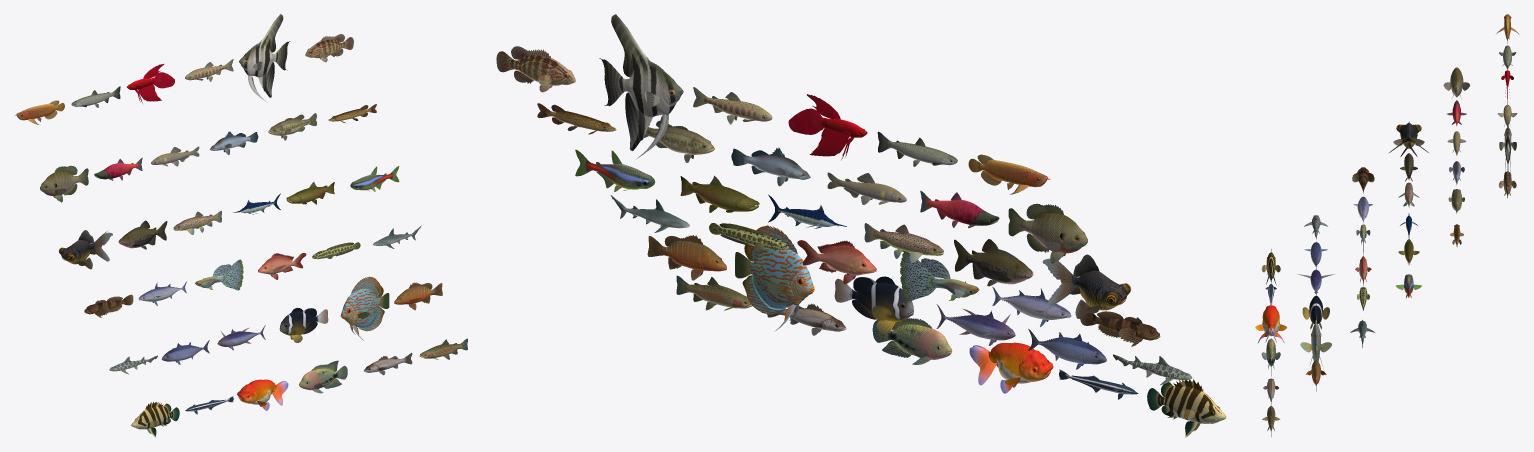
The model's file is fish.fbx.
3 renders of one model, left to right at view 1: azimuth 30°, elevation 25°; view 2: azimuth 150°, elevation 25°; view 3: azimuth 270°, elevation 25°, orthographic. The views are drawn at different scales.
Visible parts, largest first — view 1: huitugou_5182_238, huitugou_5182_02, huitugou_5182_225, huitugou_5182_327, huitugou_5182_56, huitugou_5182_98, huitugou_5182_344, huitugou_5182_134, huitugou_5182_258, huitugou_5182_213, huitugou_5182_85, huitugou_5182_283 (+5 smaller); view 2: huitugou_5182_238, huitugou_5182_02, huitugou_5182_225, huitugou_5182_327, huitugou_5182_56, huitugou_5182_344, huitugou_5182_98, huitugou_5182_134, huitugou_5182_258, huitugou_5182_213, huitugou_5182_85, huitugou_5182_372 (+24 smaller); view 3: huitugou_5182_225, huitugou_5182_134, huitugou_5182_238, huitugou_5182_258, huitugou_5182_327.
Boxes of the visible parts, x1,y1,x2,y2 form: huitugou_5182_238: [340, 288, 380, 328]; huitugou_5182_02: [239, 45, 276, 77]; huitugou_5182_225: [237, 379, 276, 404]; huitugou_5182_327: [40, 171, 80, 196]; huitugou_5182_56: [131, 406, 172, 429]; huitugou_5182_98: [299, 368, 338, 390]; huitugou_5182_344: [118, 226, 159, 248]; huitugou_5182_134: [279, 311, 318, 335]; huitugou_5182_258: [61, 240, 95, 264]; huitugou_5182_213: [394, 286, 434, 304]; huitugou_5182_85: [305, 39, 345, 58]; huitugou_5182_283: [268, 118, 311, 135]; huitugou_5182_238: [749, 248, 814, 309]; huitugou_5182_02: [621, 66, 683, 117]; huitugou_5182_225: [988, 342, 1053, 383]; huitugou_5182_327: [1020, 213, 1087, 253]; huitugou_5182_56: [1158, 385, 1226, 423]; huitugou_5182_344: [966, 249, 1033, 284]; huitugou_5182_98: [887, 324, 952, 359]; huitugou_5182_134: [849, 283, 913, 321]; huitugou_5182_258: [1071, 270, 1127, 310]; huitugou_5182_213: [661, 240, 726, 271]; huitugou_5182_85: [510, 55, 575, 85]; huitugou_5182_372: [688, 184, 759, 211]; huitugou_5182_225: [1262, 305, 1279, 336]; huitugou_5182_134: [1309, 296, 1322, 323]; huitugou_5182_238: [1311, 322, 1320, 361]; huitugou_5182_258: [1400, 123, 1417, 148]; huitugou_5182_327: [1450, 67, 1463, 97].
Bounding box in the file's own units: 282 × 222 × 179.
